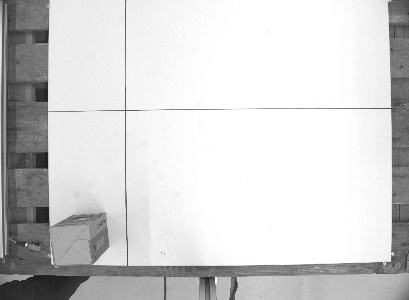b4: (47, 210, 111, 268)
